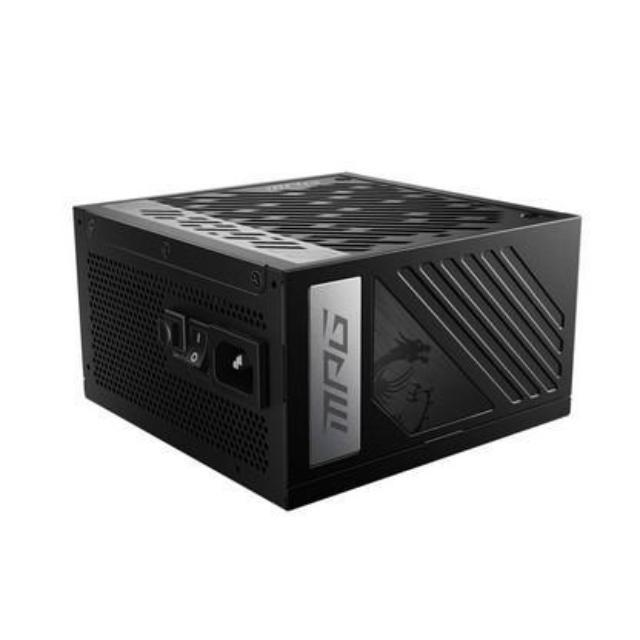PSU: (56, 158, 584, 518)
